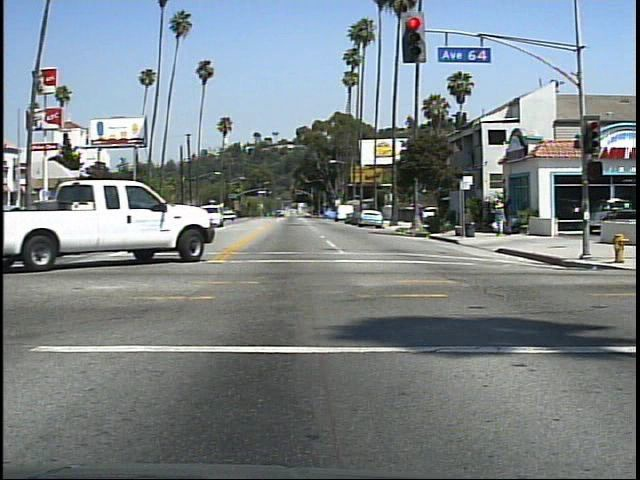person: (493, 196, 513, 240)
